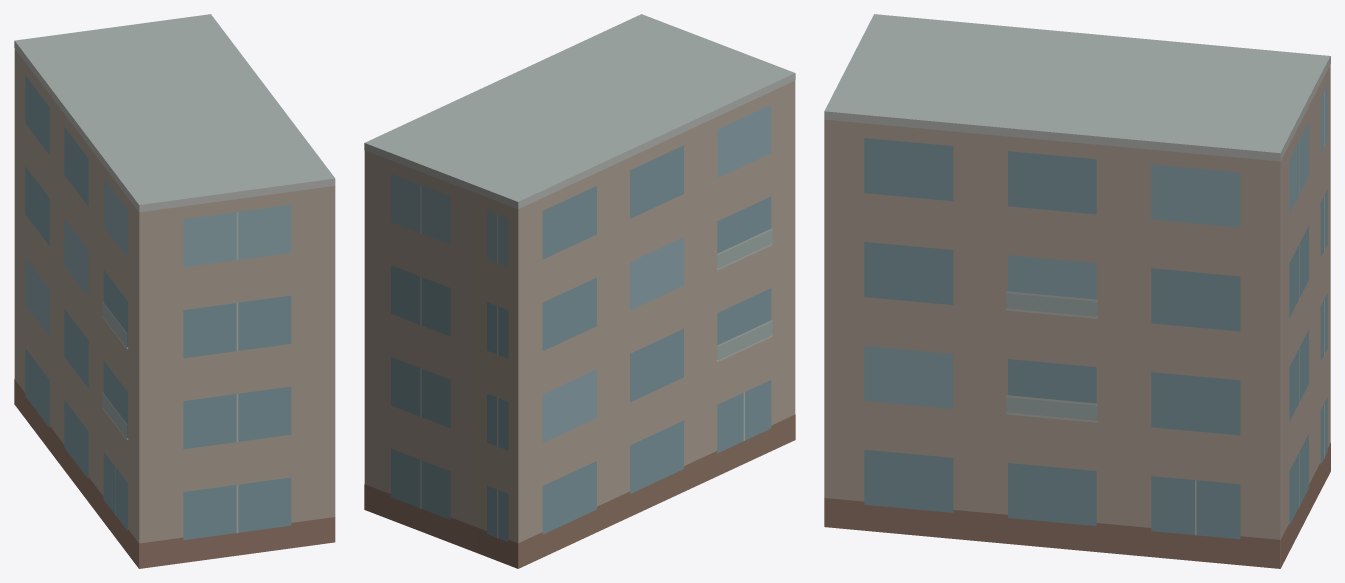
Rendered from residential-281ba120-e509-45b0-b9bb-f06f9b32ed92.glb.
The picture shows the model from 3 angles, left to right: view 1: azimuth 30°, elevation 25°; view 2: azimuth 150°, elevation 25°; view 3: azimuth 270°, elevation 25°; orthographic projection. The views are drawn at different scales.
Parts seen in each view (by area): view 1: residential-281ba120-e509-45b0-b9bb-f06f9b32ed92.tmp; view 2: residential-281ba120-e509-45b0-b9bb-f06f9b32ed92.tmp; view 3: residential-281ba120-e509-45b0-b9bb-f06f9b32ed92.tmp.
Part boxes in pixels (bbox=[...]): residential-281ba120-e509-45b0-b9bb-f06f9b32ed92.tmp: bbox=[14, 14, 335, 568]; residential-281ba120-e509-45b0-b9bb-f06f9b32ed92.tmp: bbox=[364, 14, 795, 568]; residential-281ba120-e509-45b0-b9bb-f06f9b32ed92.tmp: bbox=[824, 14, 1330, 568].
Bounding box in the file's own units: 8.77 × 12.2 × 13.48.
